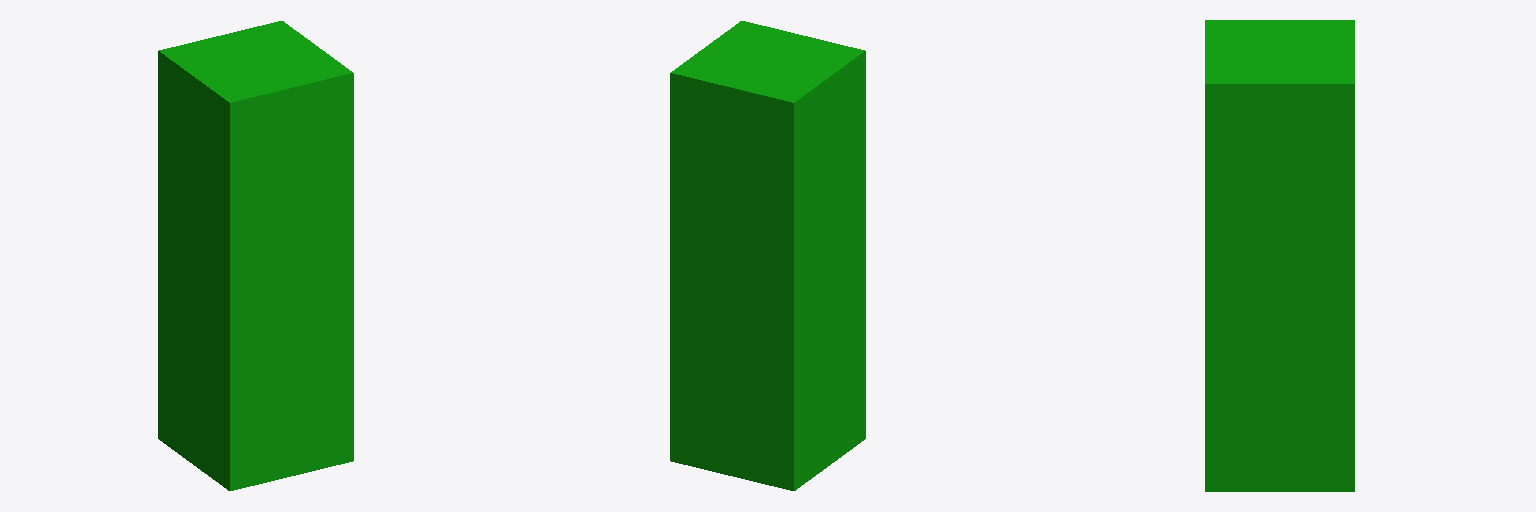
The robot description file, URDF, robot "block_2":
<?xml version="1.0"?>
<robot name="block_2">
  <link name="block_2_base_link">
    <contact>
      <lateral_friction value="1.0"/>
      <spinning_friction value=".001"/>
    </contact>
    <inertial>
      <origin rpy="0 0 0" xyz="0 0 0"/>
      <mass value="0.02"/>
      <inertia ixx="1" ixy="0" ixz="0" iyy="1" iyz="0" izz="1"/>
    </inertial>
    <visual>
      <origin rpy="0 0 0" xyz="0.0 0.0 0.0"/>
      <geometry>
        <box size="0.01 0.01 0.03"/>
      </geometry>
      <material name="blockmat">
        <color rgba="0.1 0.7 0.1 1"/>
      </material>
    </visual>
    <collision>
      <origin rpy="0 0 0" xyz="0.0 0.0 0.0"/>
      <geometry>
        <box size="0.01 0.01 0.03"/>
      </geometry>
    </collision>
  </link>
</robot>

--- Facts derived from the render (not from the file) ---
Views: 3 orthographic renders of the robot side by side, from view 1: azimuth 30°, elevation 25°; view 2: azimuth 150°, elevation 25°; view 3: azimuth 270°, elevation 25°.
Model block_2 with 1 links and 0 joints (none), rooted at block_2_base_link, posed all joints at 0.
Links seen in each view (by area): view 1: block_2_base_link; view 2: block_2_base_link; view 3: block_2_base_link.
Boxes of the visible links, x1,y1,x2,y2 form: block_2_base_link: [158, 21, 353, 490]; block_2_base_link: [670, 21, 865, 490]; block_2_base_link: [1205, 20, 1354, 491].
Bounding box of the posed robot: 0.01 × 0.01 × 0.03 m (x, y, z).
Geometry: primitives only (box / cylinder / sphere), no mesh files.